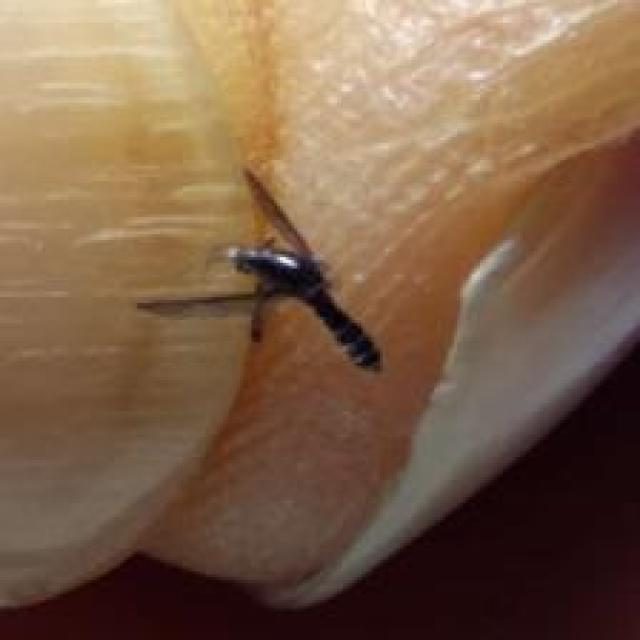Aedes albopictus: (134, 166, 383, 374)
